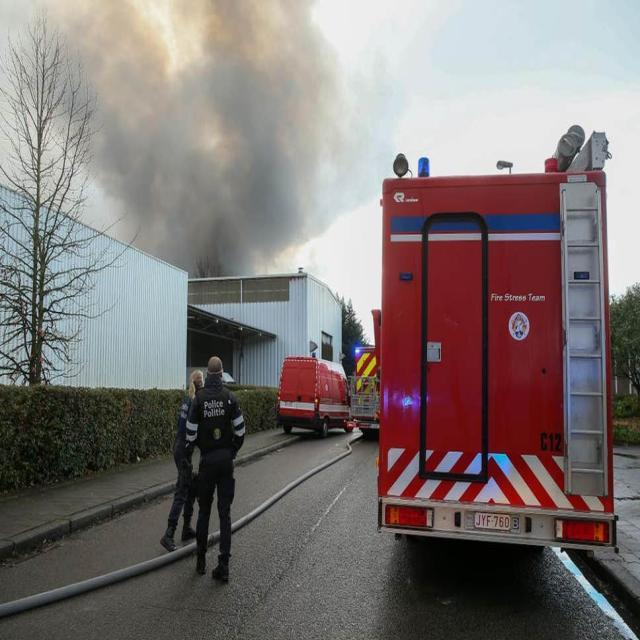Smoke: (36, 10, 352, 228)
